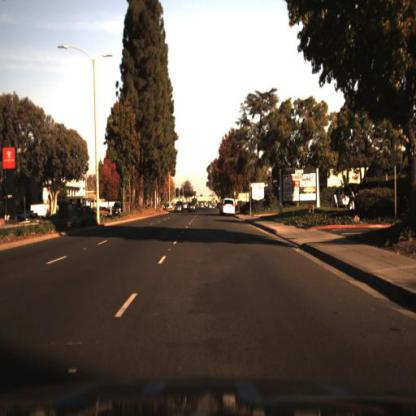car: (328, 173, 364, 219), (108, 194, 129, 219), (218, 193, 236, 221), (16, 206, 39, 224), (171, 197, 184, 213), (185, 200, 196, 218)
truck: (29, 198, 54, 220)
